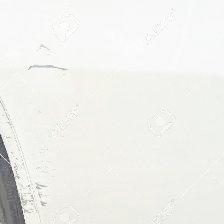door_scratch: (17, 43, 69, 98)
